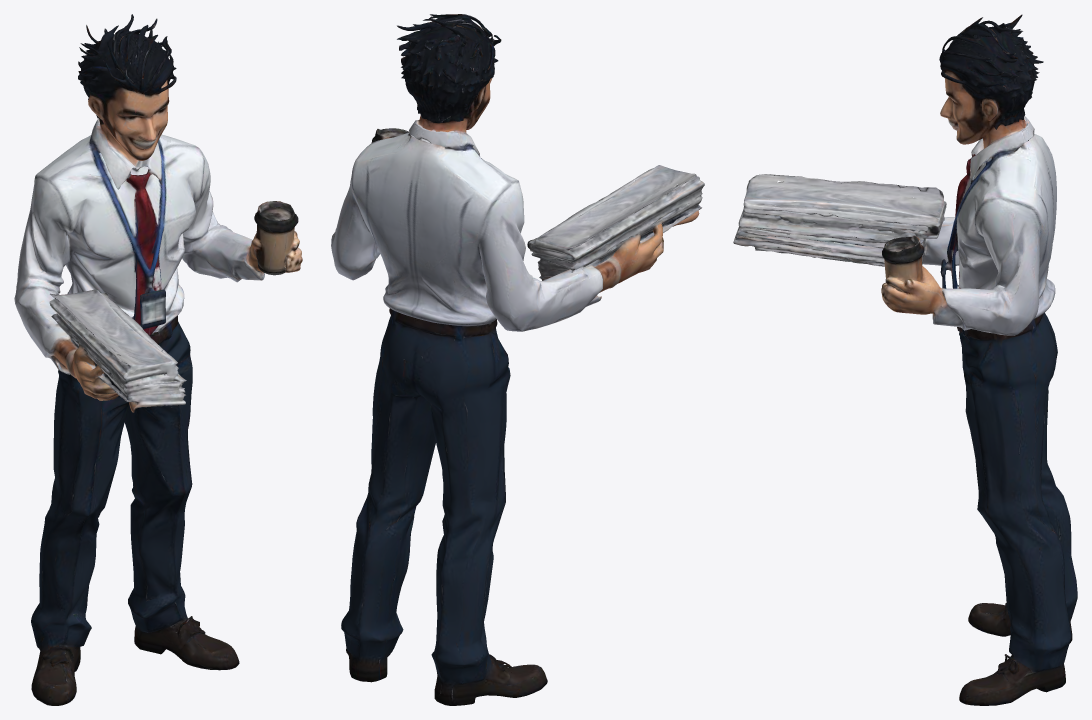
Rendered from token_intern.glb.
3 renders of one model, left to right at view 1: azimuth 30°, elevation 25°; view 2: azimuth 150°, elevation 25°; view 3: azimuth 270°, elevation 25°, orthographic. The views are drawn at different scales.
Size of the model in its own units: 0.3997 by 0.9767 by 0.4782.
1 material, 1 textured.
